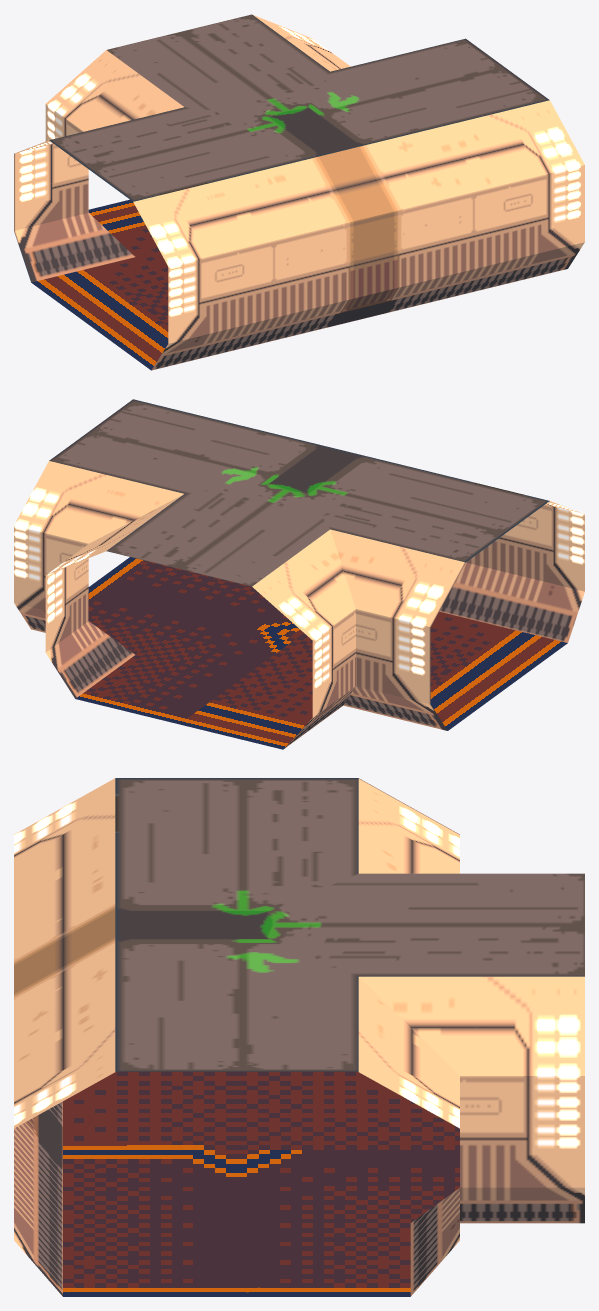
File: corridor_T_shape.fbx
3 renders of one model, top to bottom at view 1: azimuth 30°, elevation 25°; view 2: azimuth 150°, elevation 25°; view 3: azimuth 270°, elevation 25°, orthographic. The views are drawn at different scales.
Parts seen in each view (by area): view 1: corridor_wall_t, corridor_floor_t; view 2: corridor_wall_t, corridor_floor_t; view 3: corridor_wall_t, corridor_floor_t.
Part boxes in pixels (x1,y1,x2,y2): corridor_wall_t: (14, 14, 584, 370); corridor_floor_t: (31, 199, 168, 370); corridor_wall_t: (14, 399, 584, 748); corridor_floor_t: (76, 557, 567, 749); corridor_wall_t: (14, 778, 584, 1296); corridor_floor_t: (63, 1072, 459, 1296).
Bounding box in the file's own units: 800 × 285 × 656.
